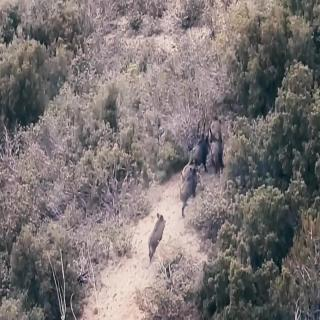Pig: (144, 199, 163, 258), (179, 156, 195, 212), (208, 116, 221, 164), (190, 124, 204, 168), (211, 111, 222, 132)
